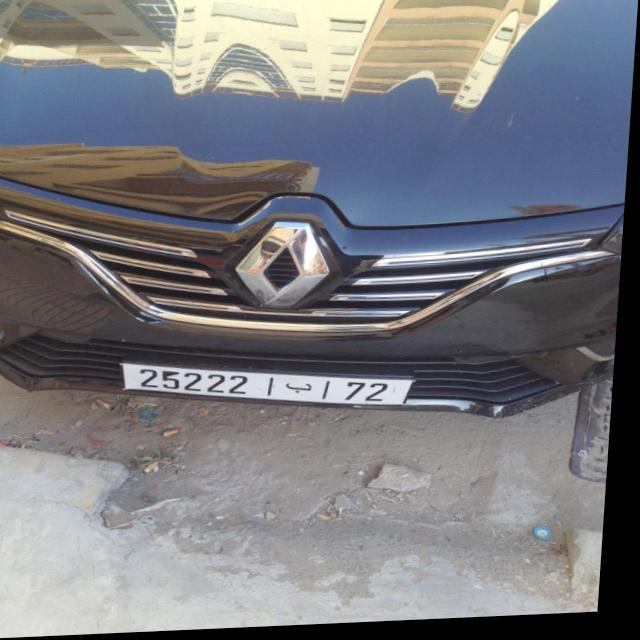License-Plate: (127, 365, 419, 409)
